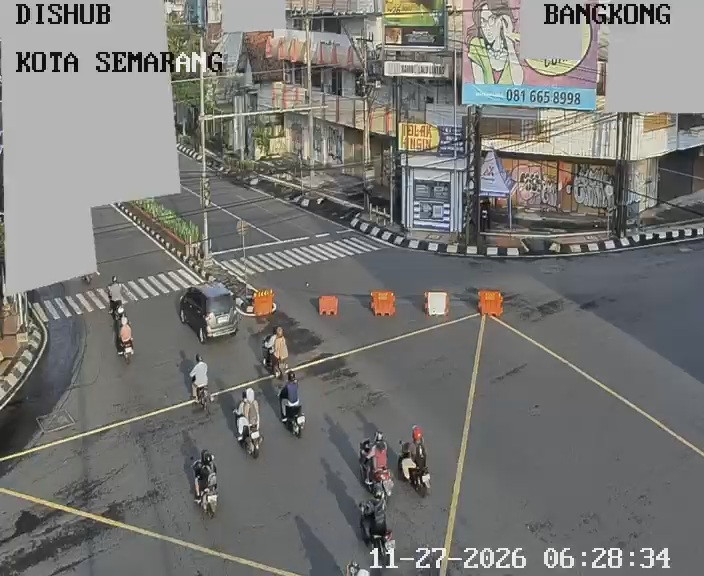Gerobak: (475, 147, 517, 233)
